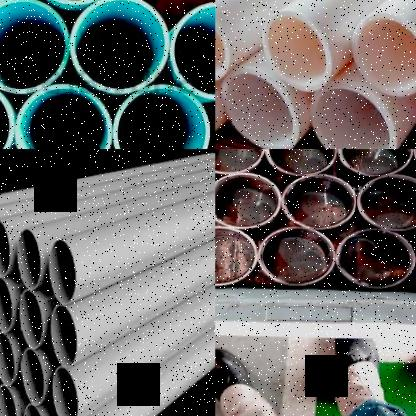pipe: (70, 0, 169, 95), (0, 0, 70, 94), (220, 68, 299, 149), (14, 84, 112, 149), (113, 84, 209, 149), (310, 80, 396, 149), (264, 11, 332, 91), (352, 13, 416, 96), (335, 228, 416, 289), (257, 226, 335, 287), (171, 2, 215, 100), (282, 174, 358, 230), (216, 172, 280, 228), (356, 173, 416, 231), (215, 224, 258, 286), (337, 149, 414, 177), (264, 149, 338, 176), (49, 239, 76, 305), (51, 306, 78, 367), (17, 229, 41, 290), (19, 290, 43, 349), (52, 366, 78, 416), (215, 149, 265, 175), (22, 348, 44, 405), (215, 3, 230, 80), (0, 332, 14, 386), (0, 277, 12, 332), (0, 219, 10, 277), (0, 385, 17, 416), (22, 403, 45, 416)
